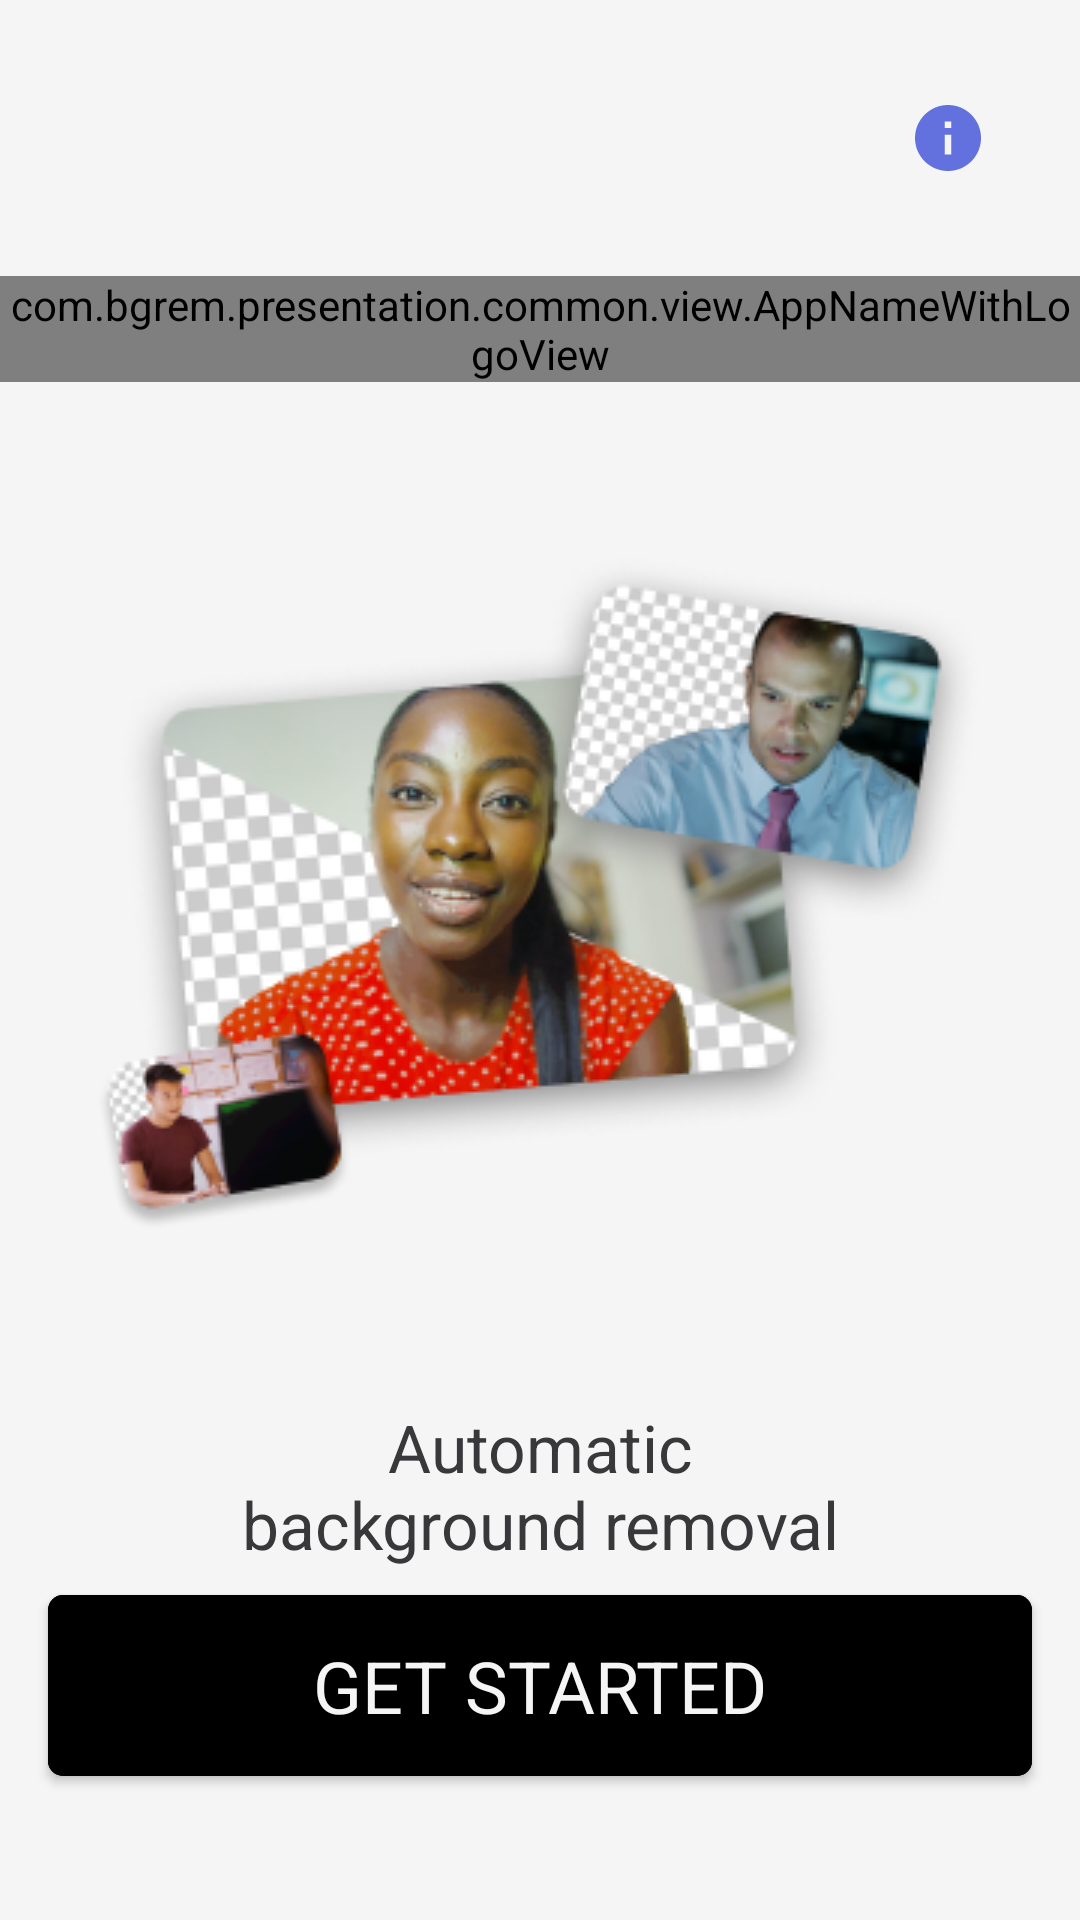

Screen size 1080px×1920px. Icon name, then its box in pixels as [x1=x1, y1=y1, x2=x2, y2=y2]:
info: [x1=915, y1=105, x2=981, y2=171]
